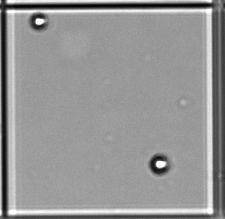Living Cell: (150, 154, 170, 174), (30, 13, 47, 30)
